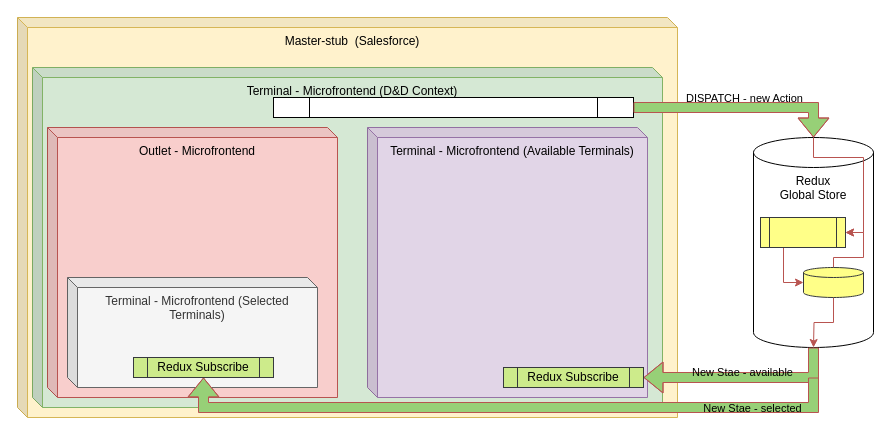
Some shapes in this 891 by 435 pixel diagram are drawn without their labels. The centre of each missing label's shape, as x and y in pixels:
Reducer: the point at 803,232
selectedTerminals, availableTerminals: the point at 453,107
State: the point at 833,282
